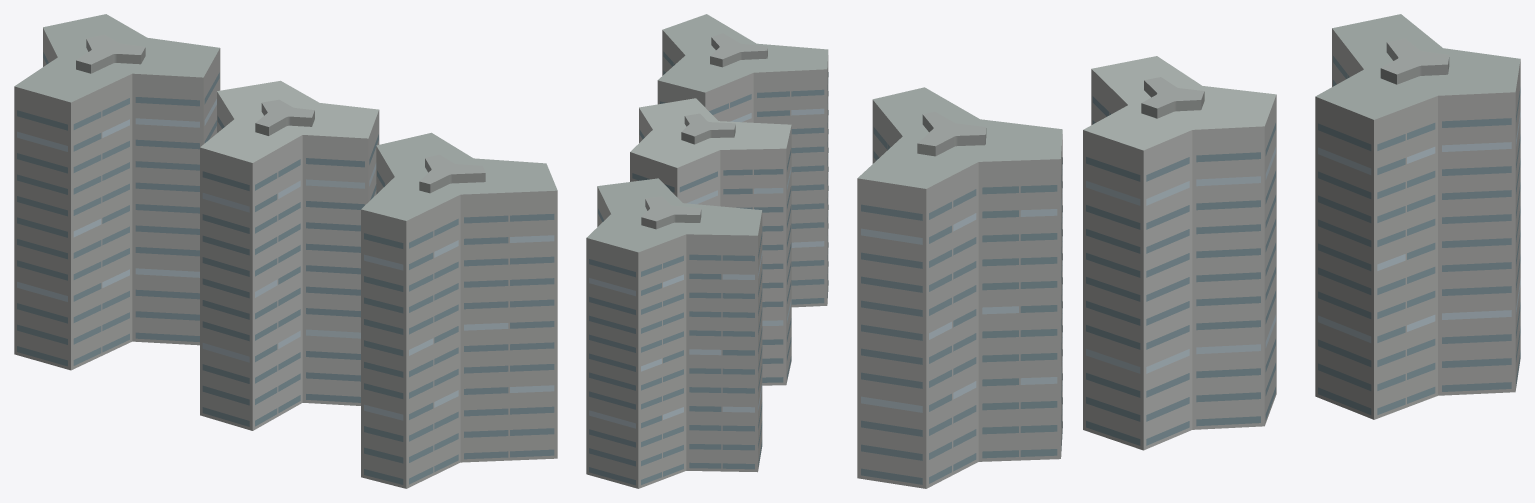
File: apt-a13579506.glb
3 renders of one model, left to right at view 1: azimuth 30°, elevation 25°; view 2: azimuth 150°, elevation 25°; view 3: azimuth 270°, elevation 25°, orthographic. The views are drawn at different scales.
Visible parts, largest first — view 1: apt-a13579506; view 2: apt-a13579506; view 3: apt-a13579506.
Part boxes in pixels (left/top/right/bottom): apt-a13579506: left=14, top=14, right=557, bottom=488; apt-a13579506: left=586, top=14, right=828, bottom=488; apt-a13579506: left=857, top=14, right=1520, bottom=488.
Size of the model in its own units: 88.32 by 73 by 141.
